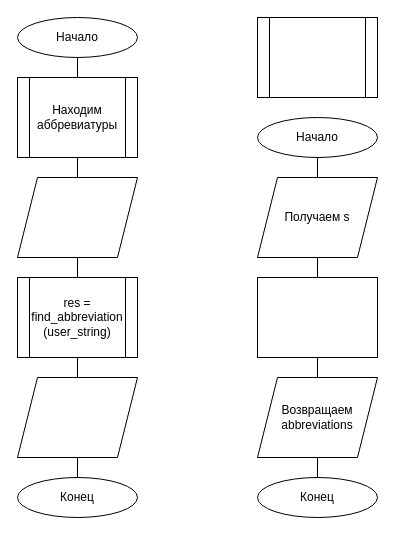
Image size: 395x535. Some labels were removed from this diagram. The centre of each missing label's shape, as x and y in pixels:
"abbreviations - найденные аббревиатуры в строке по шаблону" goes at (x=317, y=317).
"find_abbreviation (s)" goes at (x=317, y=57).
"Ввод строки user_string" goes at (x=77, y=217).
"Вывод res" goes at (x=77, y=417).
